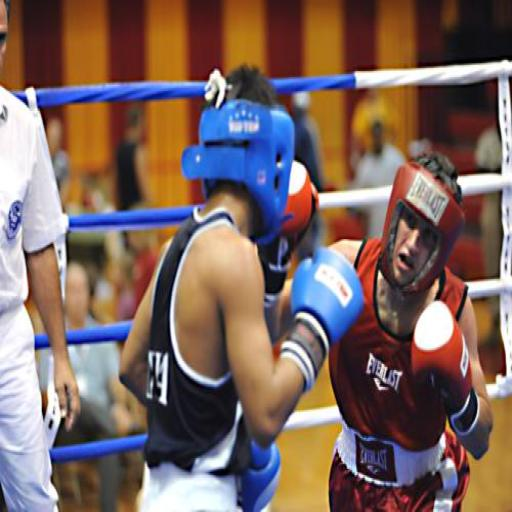boxing: (109, 28, 329, 512), (252, 103, 488, 512)
